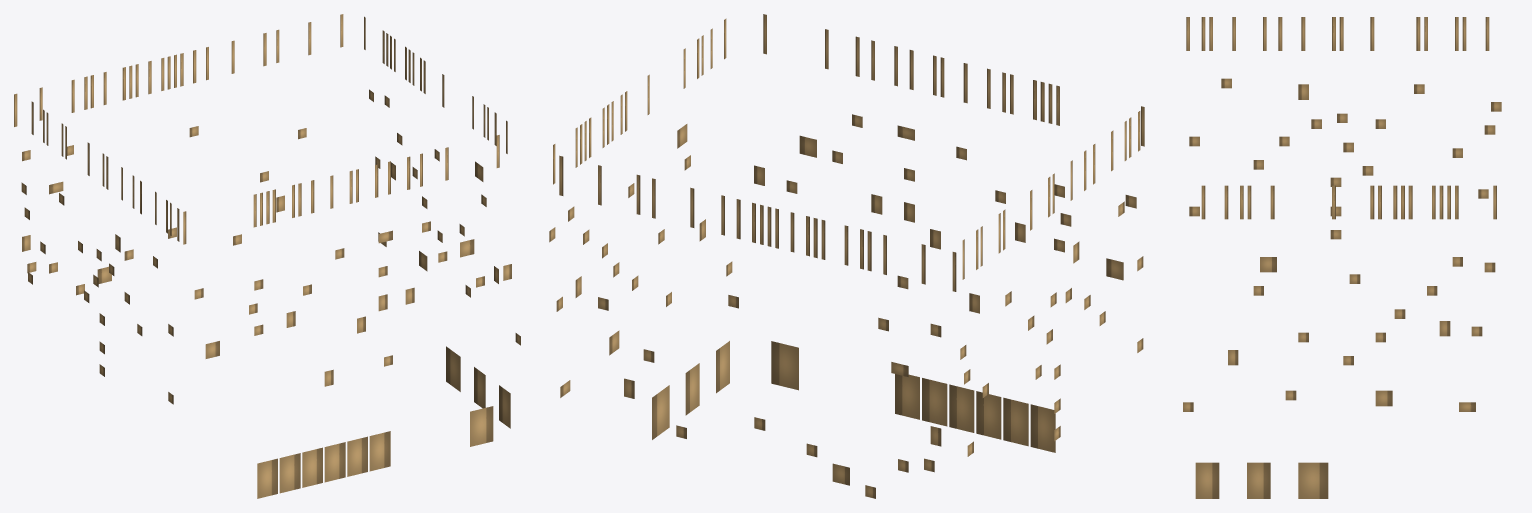
Rendered from telefoane_lights.obj.
The picture shows the model from 3 angles, left to right: view 1: azimuth 30°, elevation 25°; view 2: azimuth 150°, elevation 25°; view 3: azimuth 270°, elevation 25°; orthographic projection. The views are drawn at different scales.
Visible parts, largest first — view 1: Lit_WindowLit; view 2: Lit_WindowLit; view 3: Lit_WindowLit.
Boxes of the visible parts, x1,y1,x2,y2 form: Lit_WindowLit: (14,14,520,498); Lit_WindowLit: (549,14,1144,498); Lit_WindowLit: (1183,17,1501,498).
Size of the model in its own units: 25.6 by 21.55 by 21.44.
Materials: 1 (1 with a texture image).
